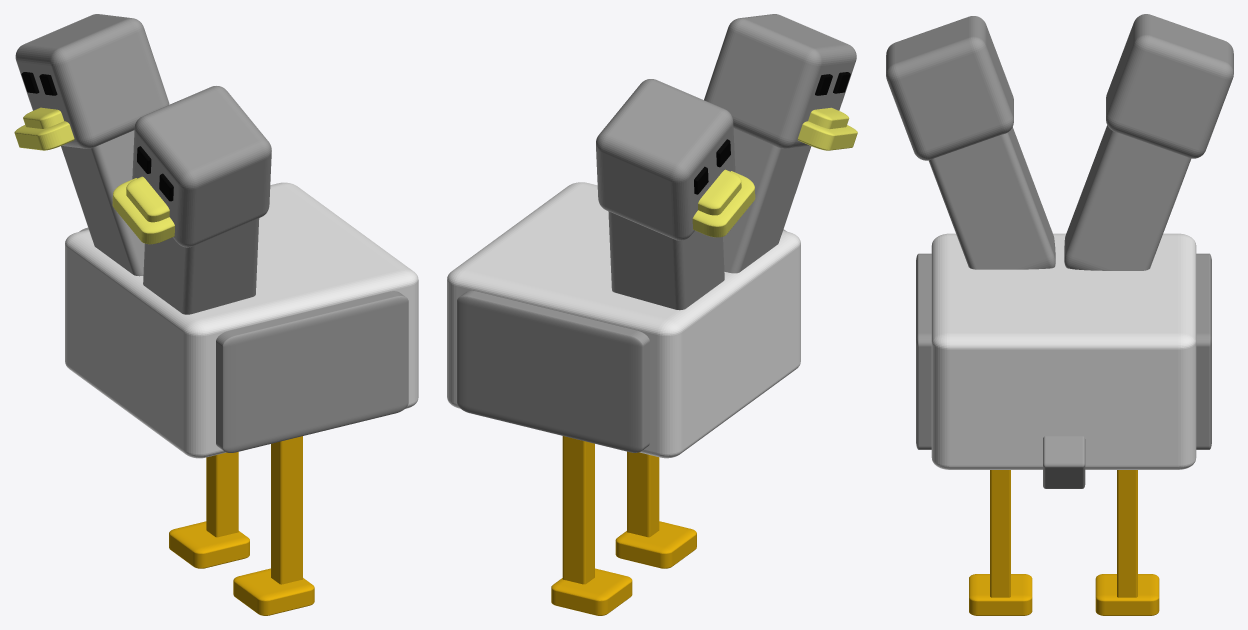
Rendered from Gaggle.glb.
3 renders of one model, left to right at view 1: azimuth 30°, elevation 25°; view 2: azimuth 150°, elevation 25°; view 3: azimuth 270°, elevation 25°, orthographic.
Visible parts, largest first — view 1: Cube.002, Head.001, Cube.009, Head, Cube.007, Cube.001, Cube.006, Cube; view 2: Cube.002, Head, Cube.010, Head.001, Cube.001, Cube.007, Cube.006, Cube; view 3: Cube.002, Head, Head.001, Cube.009, Cube.010, Cube.001, Cube.007, Cube.011, Cube, Cube.006.
Part boxes in pixels (left/top/right/bottom): Cube.002: left=65, top=182, right=418, bottom=458; Head.001: left=112, top=86, right=271, bottom=314; Cube.009: left=216, top=291, right=408, bottom=452; Head: left=14, top=14, right=169, bottom=276; Cube.007: left=271, top=436, right=302, bottom=584; Cube.001: left=206, top=452, right=238, bottom=537; Cube.006: left=233, top=568, right=314, bottom=615; Cube: left=169, top=521, right=249, bottom=568; Cube.002: left=447, top=182, right=800, bottom=458; Head: left=596, top=79, right=755, bottom=310; Cube.010: left=457, top=290, right=649, bottom=452; Head.001: left=704, top=14, right=857, bottom=273; Cube.001: left=562, top=436, right=594, bottom=584; Cube.007: left=627, top=451, right=659, bottom=537; Cube.006: left=615, top=521, right=696, bottom=568; Cube: left=551, top=568, right=632, bottom=615; Cube.002: left=931, top=233, right=1196, bottom=469; Head: left=1064, top=14, right=1233, bottom=270; Head.001: left=886, top=16, right=1055, bottom=269; Cube.009: left=916, top=253, right=931, bottom=449; Cube.010: left=1196, top=253, right=1211, bottom=449; Cube.001: left=1117, top=470, right=1137, bottom=597; Cube.007: left=990, top=470, right=1010, bottom=597; Cube.011: left=1043, top=436, right=1085, bottom=488; Cube: left=1095, top=574, right=1159, bottom=615; Cube.006: left=969, top=574, right=1032, bottom=615.
Size of the model in its own units: 1.68 by 2.79 by 1.64.
